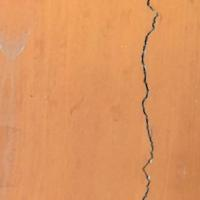crack: (120, 0, 177, 199)
